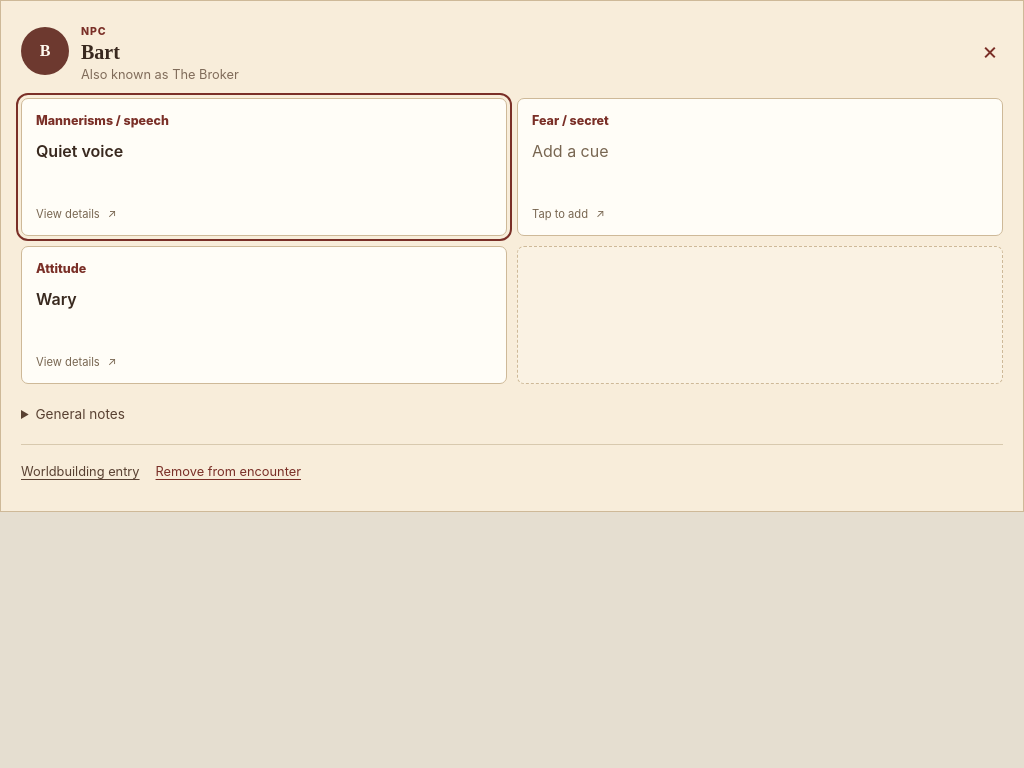
it: NPC at-a-glance overview › shows three concise cues and one empty reserved slot, with full details only in the popup
Expected: the element named "Reserved slot" is empty, x1=517 y1=246 x2=1003 y2=384
Expected: the text "Never uses real names." is not shown
Step 1. Click the button "Mannerisms / speech Quiet voice View details ↗" → (102, 120), box x1=21 y1=98 x2=507 y2=236
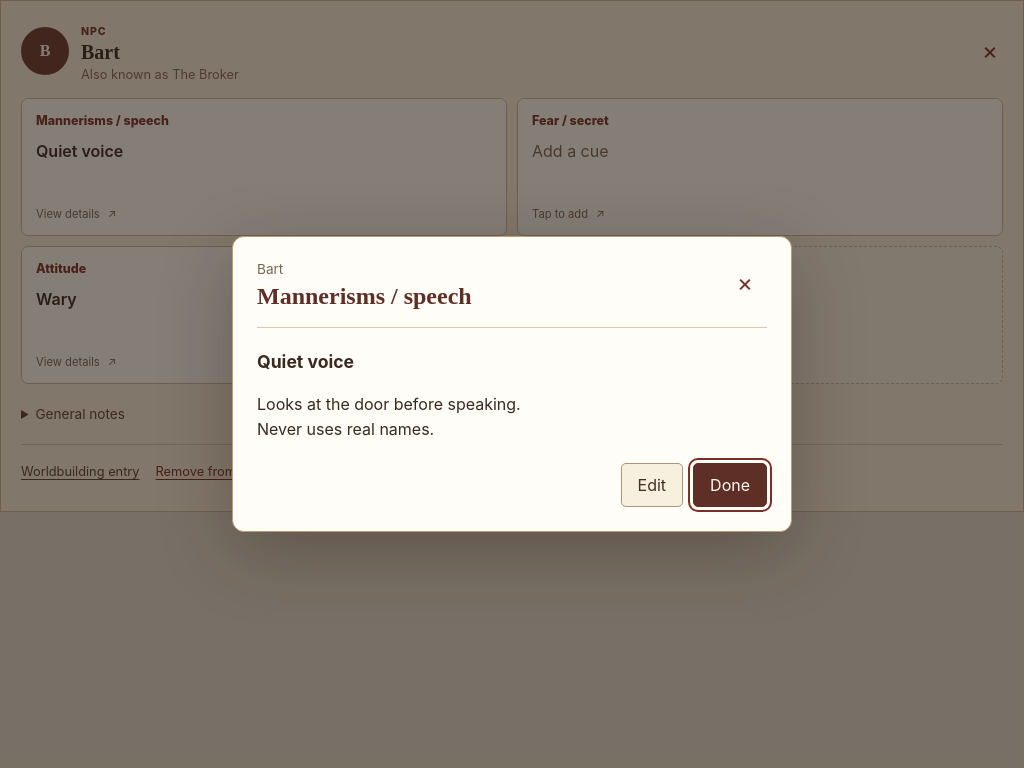
Now the dialog shows "Never uses real names.", box x1=257 y1=394 x2=521 y2=440
Step 2. Click the button "Done" → (730, 485), box x1=693 y1=463 x2=767 y2=507
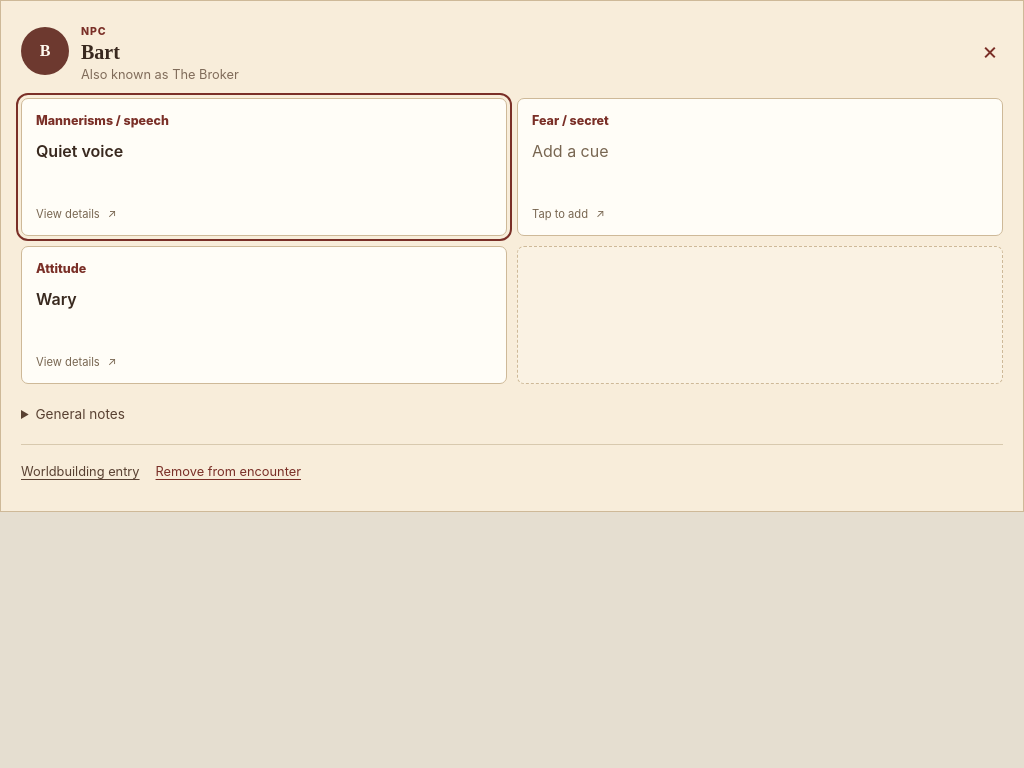
Now the dialog is gone
